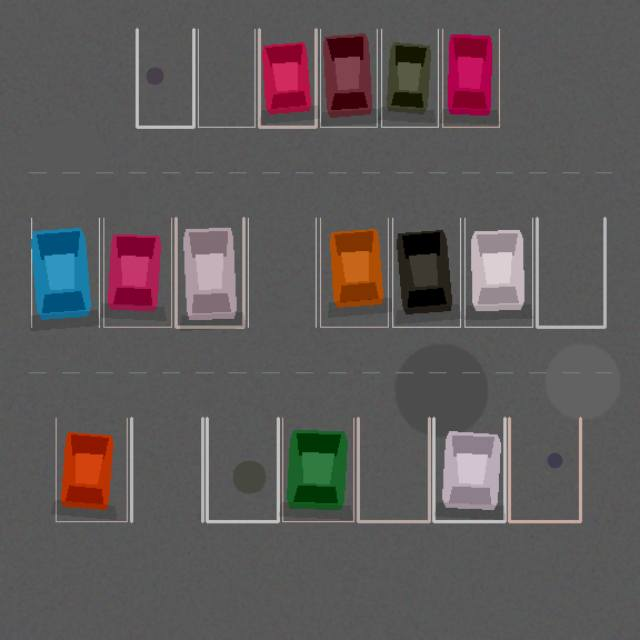space-empty: (248, 218, 316, 327), (131, 418, 202, 521), (207, 418, 278, 521), (358, 418, 429, 521), (509, 418, 580, 521), (537, 218, 604, 327), (137, 29, 193, 127), (198, 29, 254, 127)
space-occupied: (31, 218, 99, 327), (103, 218, 171, 327), (320, 218, 388, 327), (392, 218, 460, 327), (464, 218, 532, 327), (56, 418, 127, 521), (282, 418, 353, 521), (433, 418, 504, 521), (176, 218, 243, 327), (259, 29, 316, 127), (320, 29, 377, 127), (381, 29, 438, 127), (442, 29, 499, 127)
